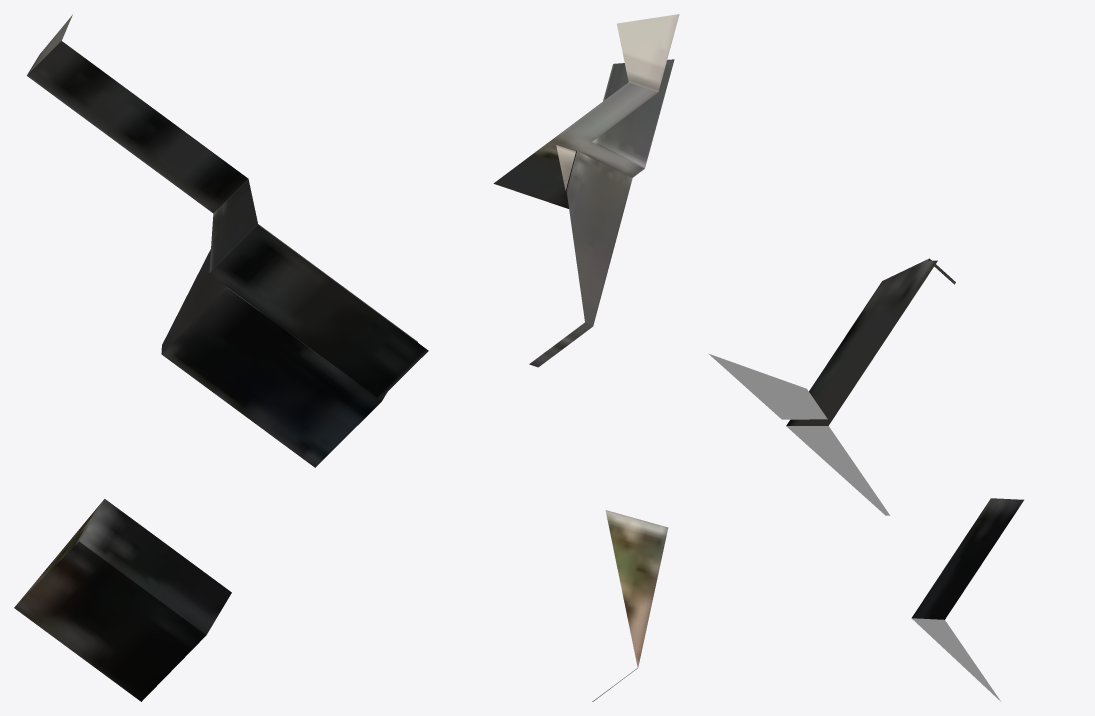
File: 39535_bldg_Building.glb
3 views of the same model, side by side, from view 1: azimuth 30°, elevation 25°; view 2: azimuth 150°, elevation 25°; view 3: azimuth 270°, elevation 25° (orthographic). The views are drawn at different scales.
Size of the model in its own units: 11.82 by 25.82 by 13.43.
Materials: 2 (1 with a texture image).
